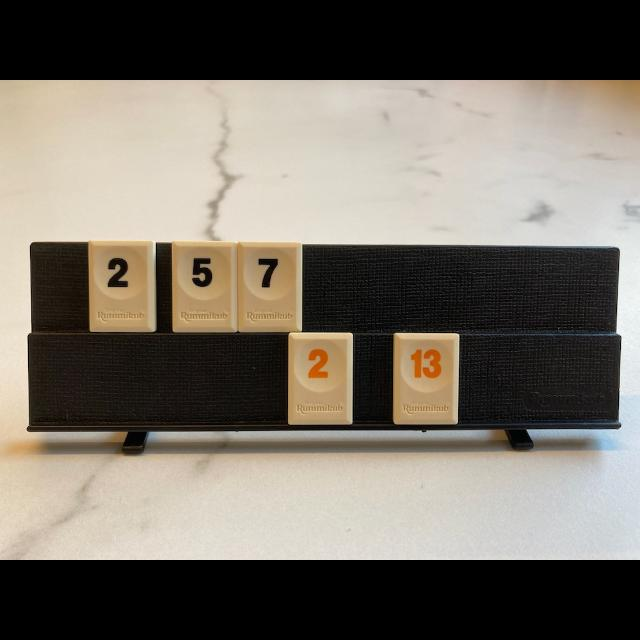black_2: (89, 241, 155, 332)
black_5: (172, 241, 238, 332)
black_7: (239, 242, 301, 331)
orange_13: (394, 332, 459, 425)
orange_2: (289, 334, 352, 425)
